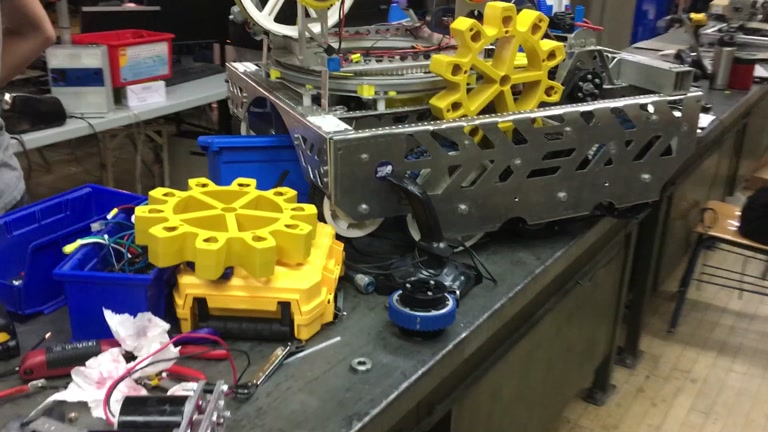gear: (427, 1, 567, 147), (134, 176, 319, 281)
